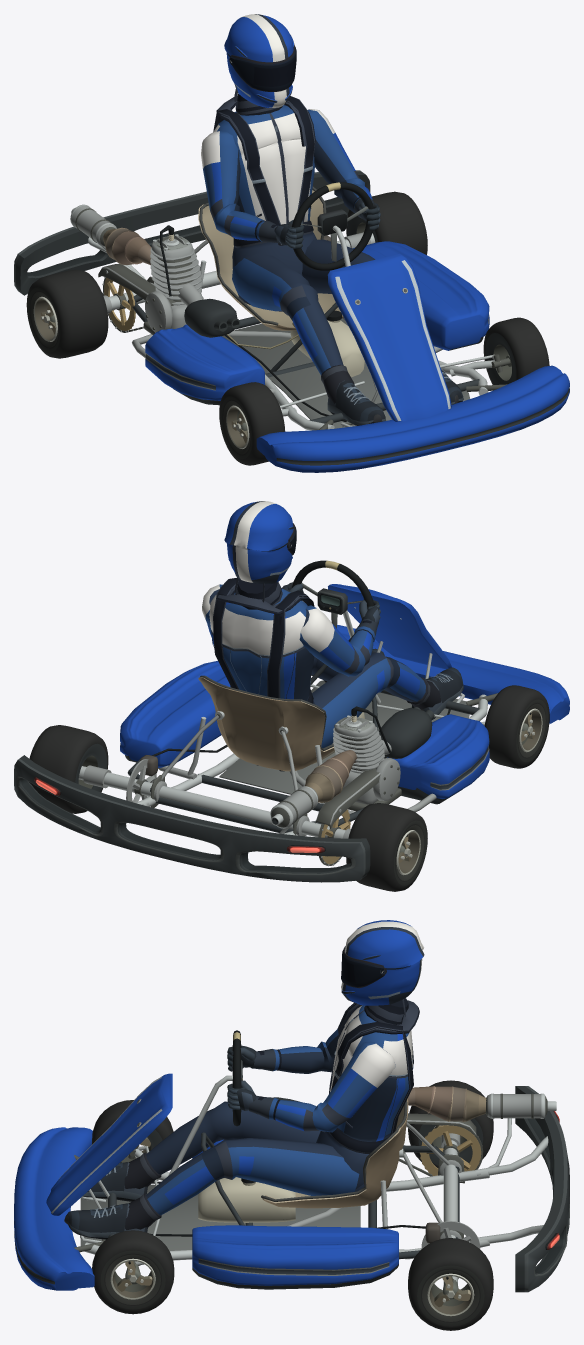
File: racekart.glb
3 renders of one model, top to bottom at view 1: azimuth 30°, elevation 25°; view 2: azimuth 150°, elevation 25°; view 3: azimuth 270°, elevation 25°, orthographic.
Visible parts, largest first — view 1: body, torso, wheelRR, head, wheelFR, wheelFL, wheelRL, steeringWheel; view 2: body, torso, wheelRR, head, wheelFR, wheelRL, steeringWheel; view 3: body, torso, wheelRL, head, wheelFL, wheelRR, wheelFR, steeringWheel.
Boxes of the visible parts, <box> form: body: <box>14,109,569,472</box>; torso: <box>213,89,316,275</box>; wheelRR: <box>26,269,108,358</box>; head: <box>224,14,296,107</box>; wheelFR: <box>219,382,285,465</box>; wheelFL: <box>483,317,549,384</box>; wheelRL: <box>346,191,427,254</box>; steeringWheel: <box>292,182,373,270</box>; body: <box>14,582,569,882</box>; torso: <box>209,577,315,771</box>; wheelRR: <box>346,803,427,891</box>; head: <box>224,501,296,583</box>; wheelFR: <box>484,685,549,768</box>; wheelRL: <box>29,725,108,813</box>; steeringWheel: <box>292,560,373,628</box>; body: <box>14,1014,569,1292</box>; torso: <box>316,998,419,1189</box>; wheelRL: <box>408,1238,493,1330</box>; head: <box>341,920,424,1005</box>; wheelFL: <box>92,1230,174,1314</box>; wheelRR: <box>408,1080,493,1167</box>; wheelFR: <box>92,1100,173,1163</box>; steeringWheel: <box>232,1030,242,1126</box>.
Bounding box in the file's own units: 1.4 × 1.16 × 1.82.
